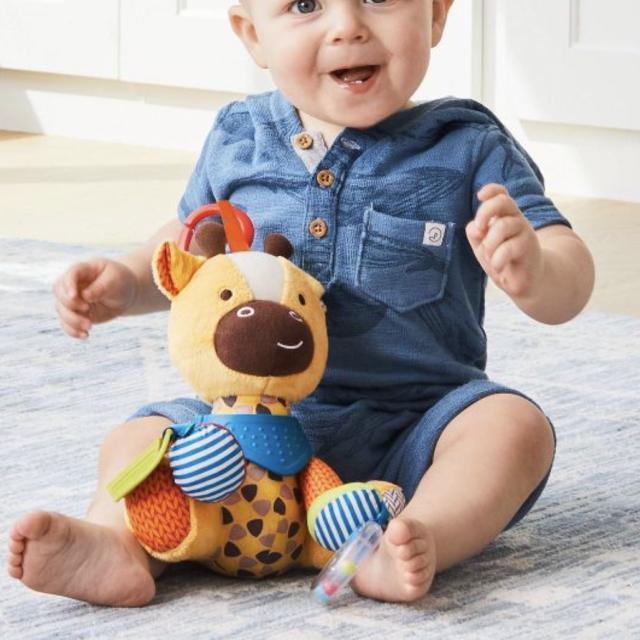non-dog: (110, 222, 405, 578)
